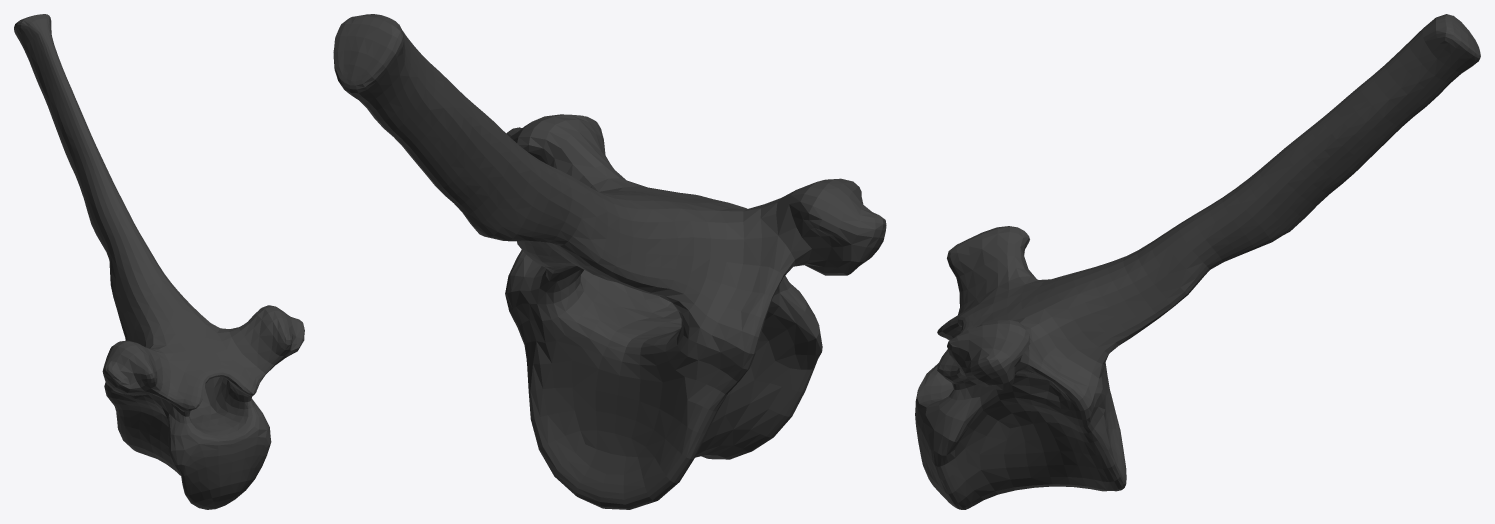
3 renders of one model, left to right at view 1: azimuth 30°, elevation 25°; view 2: azimuth 150°, elevation 25°; view 3: azimuth 270°, elevation 25°, orthographic. The views are drawn at different scales.
Visible parts, largest first — view 1: b_T9_LO; view 2: b_T9_LO; view 3: b_T9_LO.
Boxes of the visible parts, box(x1,y1,x2,y2) form: b_T9_LO: box(14, 14, 304, 509); b_T9_LO: box(333, 14, 886, 509); b_T9_LO: box(915, 14, 1480, 509).
Bounding box in the file's own units: 0.000965 × 0.0017 × 0.00178.
Materials: 1 (1 with a texture image).
